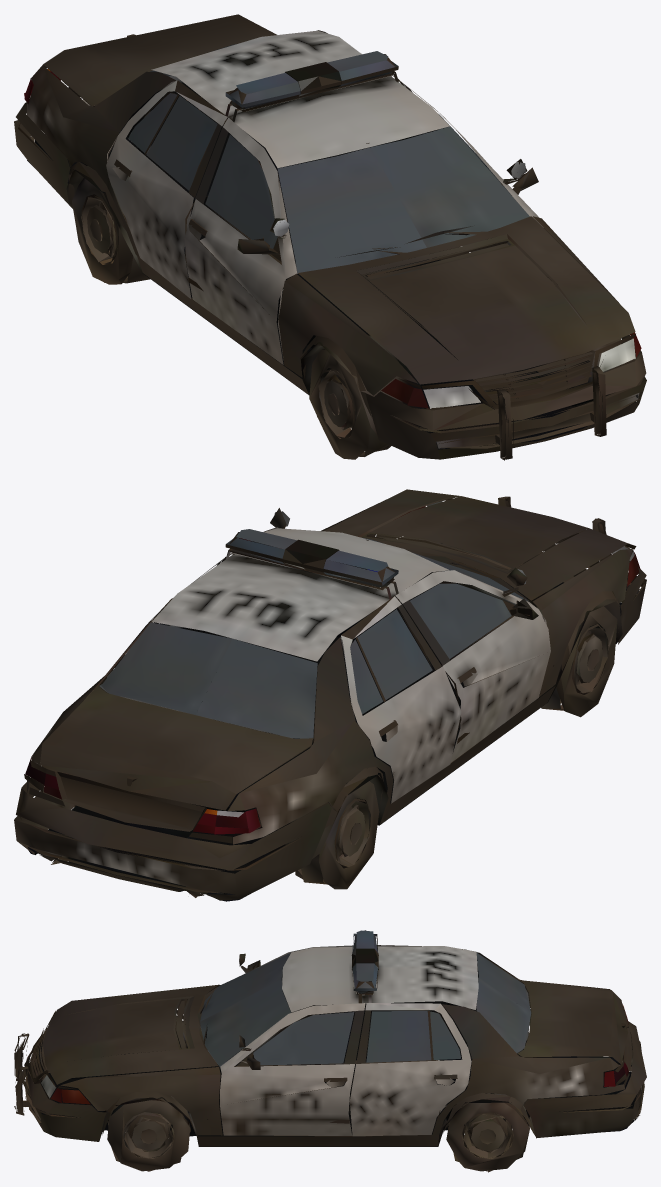
File: pack-police-L2.glb
3 views of the same model, one above another, from view 1: azimuth 30°, elevation 25°; view 2: azimuth 150°, elevation 25°; view 3: azimuth 270°, elevation 25° (orthographic). The views are drawn at different scales.
Visible parts, largest first — view 1: body; view 2: body; view 3: body.
Boxes of the visible parts, bbox=[...] form: body: bbox=[14, 14, 646, 460]; body: bbox=[14, 489, 646, 901]; body: bbox=[14, 930, 646, 1172].
Bounding box in the file's own units: 2 × 1.58 × 5.19.
Materials: 1 (1 with a texture image).
